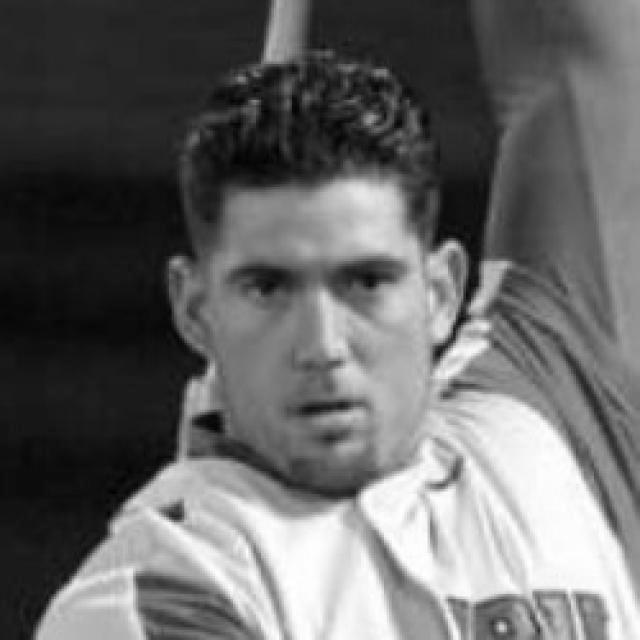real: (193, 156, 436, 474), (210, 259, 418, 315)
